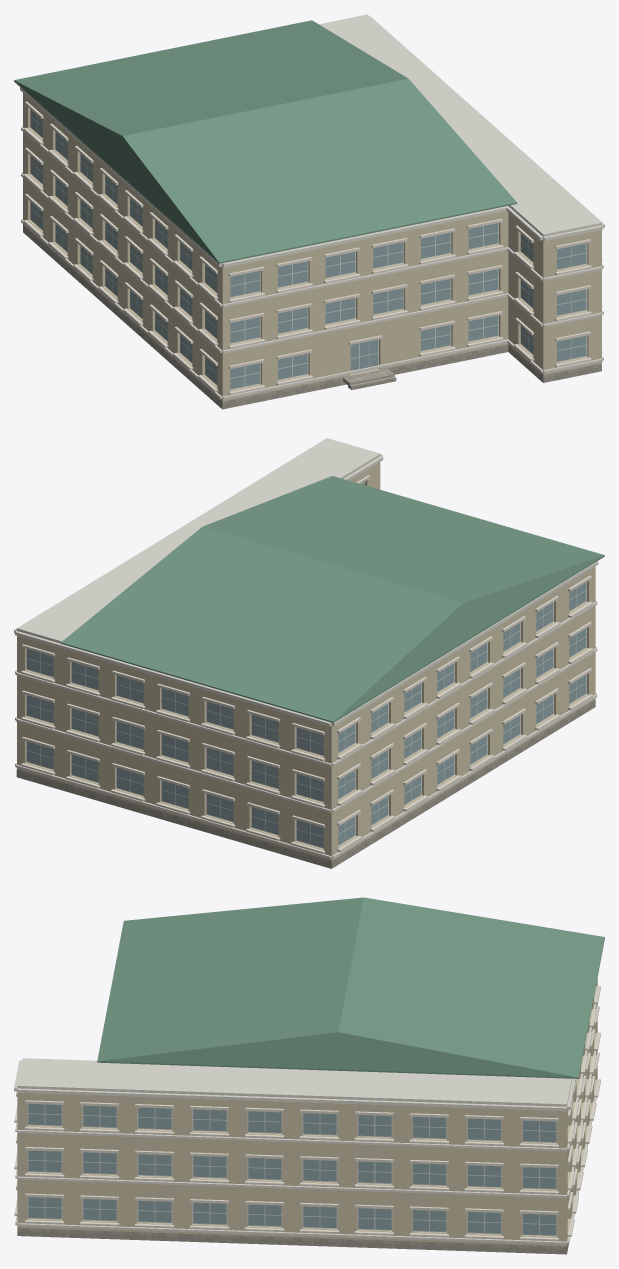
The picture shows the model from 3 angles, top to bottom: view 1: azimuth 30°, elevation 25°; view 2: azimuth 150°, elevation 25°; view 3: azimuth 270°, elevation 25°; orthographic projection.
Parts seen in each view (by area): view 1: hall__roof, hall__plaster, hall__cap, hall__glass, hall__lintel, hall__stone, hall__frame; view 2: hall__roof, hall__plaster, hall__glass, hall__cap, hall__lintel, hall__stone, hall__frame; view 3: hall__roof, hall__plaster, hall__cap, hall__glass, hall__lintel, hall__frame, hall__stone.
Part boxes in pixels (x1,y1,x2,y2): hall__roof: (14,20,517,263); hall__plaster: (23,93,601,401); hall__cap: (20,14,604,399); hall__glass: (30,110,586,389); hall__lintel: (23,101,602,395); hall__stone: (23,225,601,409); hall__frame: (30,109,587,389); hall__roof: (61,476,604,722); hall__plaster: (17,456,595,860); hall__glass: (27,482,586,847); hall__cap: (14,438,598,858); hall__lintel: (21,475,593,853); hall__stone: (16,699,595,868); hall__frame: (26,482,586,848); hall__roof: (97,897,604,1078); hall__plaster: (17,978,597,1246); hall__cap: (14,985,597,1244); hall__glass: (28,1104,556,1235); hall__lintel: (14,985,600,1241); hall__frame: (27,1025,594,1236); hall__stone: (17,1228,568,1254).
Bounding box in the file's own units: 31.94 × 15.22 × 43.65.
9 materials, 2 textured.
